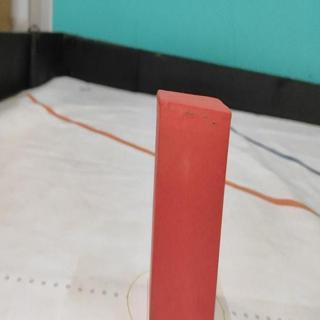redbox: (147, 88, 231, 320)
